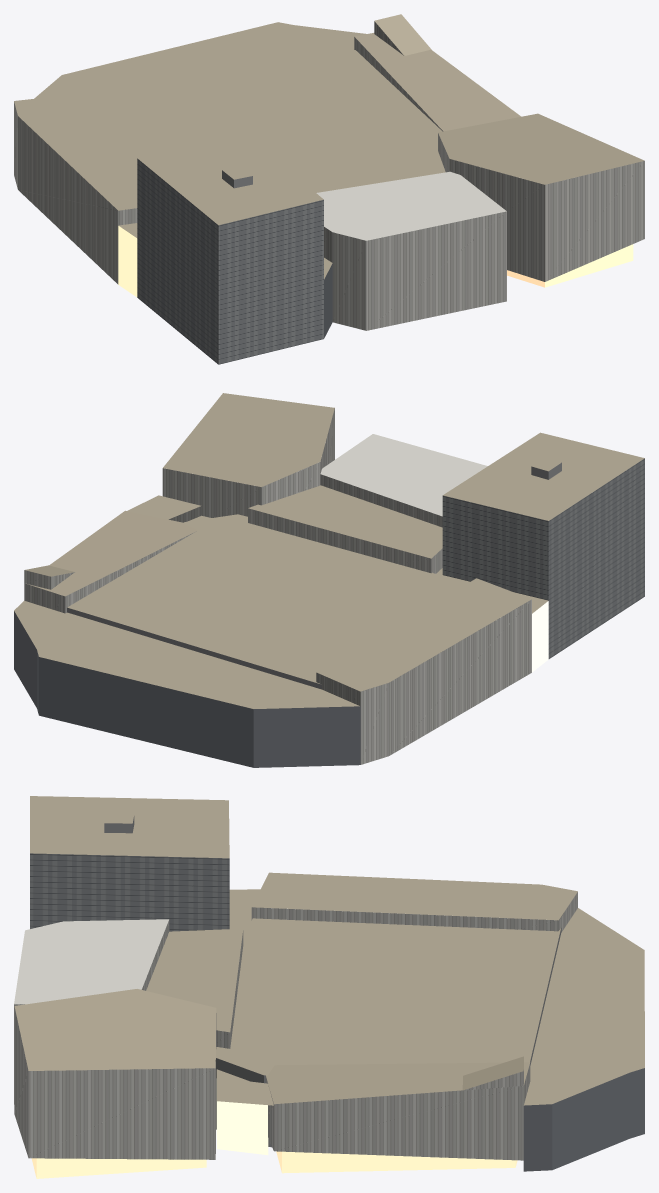
The model's file is emporium_mall_far.glb.
3 renders of one model, top to bottom at view 1: azimuth 30°, elevation 25°; view 2: azimuth 150°, elevation 25°; view 3: azimuth 270°, elevation 25°, orthographic. The views are drawn at different scales.
Parts seen in each view (by area): view 1: m_roof_concrete, m_mall_cladding, m_hotel_cladding, m_roof_white, m_ground_glazing, m_entrance_glazing, m_dark_end_block; view 2: m_roof_concrete, m_mall_cladding, m_hotel_cladding, m_dark_end_block, m_roof_white, m_rear_wall, m_entrance_glazing; view 3: m_roof_concrete, m_mall_cladding, m_hotel_cladding, m_roof_white, m_dark_end_block, m_ground_glazing, m_entrance_glazing, m_rear_wall.
Part boxes in pixels (left/top/right/bottom): m_roof_concrete: left=14, top=14, right=644, bottom=279; m_mall_cladding: left=14, top=21, right=644, bottom=330; m_hotel_cladding: left=137, top=158, right=323, bottom=364; m_roof_white: left=316, top=171, right=506, bottom=240; m_ground_glazing: left=507, top=244, right=633, bottom=287; m_entrance_glazing: left=118, top=226, right=137, bottom=297; m_dark_end_block: left=324, top=263, right=332, bottom=338; m_roof_concrete: left=14, top=393, right=644, bottom=708; m_mall_cladding: left=24, top=408, right=531, bottom=764; m_hotel_cladding: left=442, top=458, right=644, bottom=658; m_dark_end_block: left=14, top=611, right=360, bottom=767; m_roof_white: left=320, top=434, right=487, bottom=516; m_rear_wall: left=67, top=462, right=561, bottom=689; m_entrance_glazing: left=532, top=601, right=548, bottom=672; m_roof_concrete: left=14, top=796, right=644, bottom=1105; m_mall_cladding: left=14, top=892, right=577, bottom=1160; m_hotel_cladding: left=30, top=853, right=229, bottom=931; m_roof_white: left=14, top=919, right=168, bottom=1004; m_dark_end_block: left=523, top=1068, right=644, bottom=1171; m_ground_glazing: left=31, top=1151, right=517, bottom=1178; m_entrance_glazing: left=216, top=1078, right=268, bottom=1155; m_rear_wall: left=104, top=816, right=561, bottom=1147.
Bounding box in the file's own units: 181 × 60 × 208.
9 materials, 2 textured.
